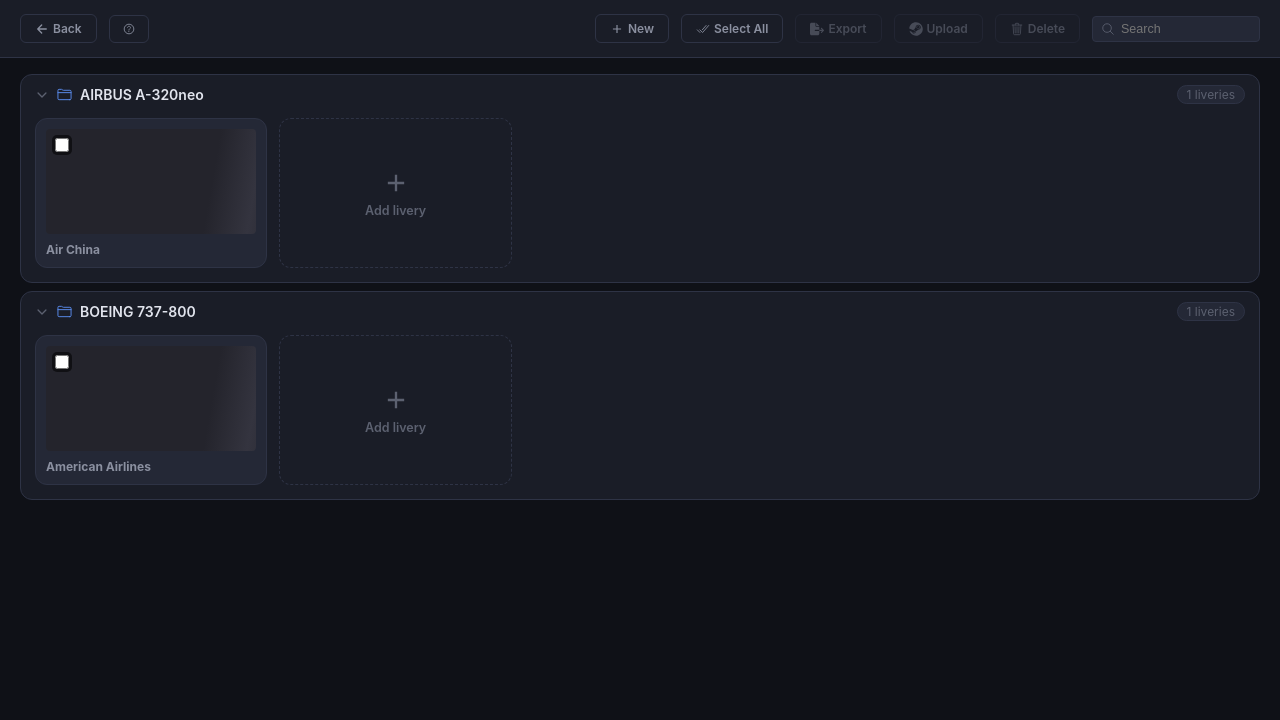
Test: LiveryScreen › header search filters the mine list
Expected: the text "Air China" is shown, 46,242 -> 100,257
Type "american" into the field with placeholder "Search".
click(1186, 28); type("american")  # box 1121,22 -> 1251,36
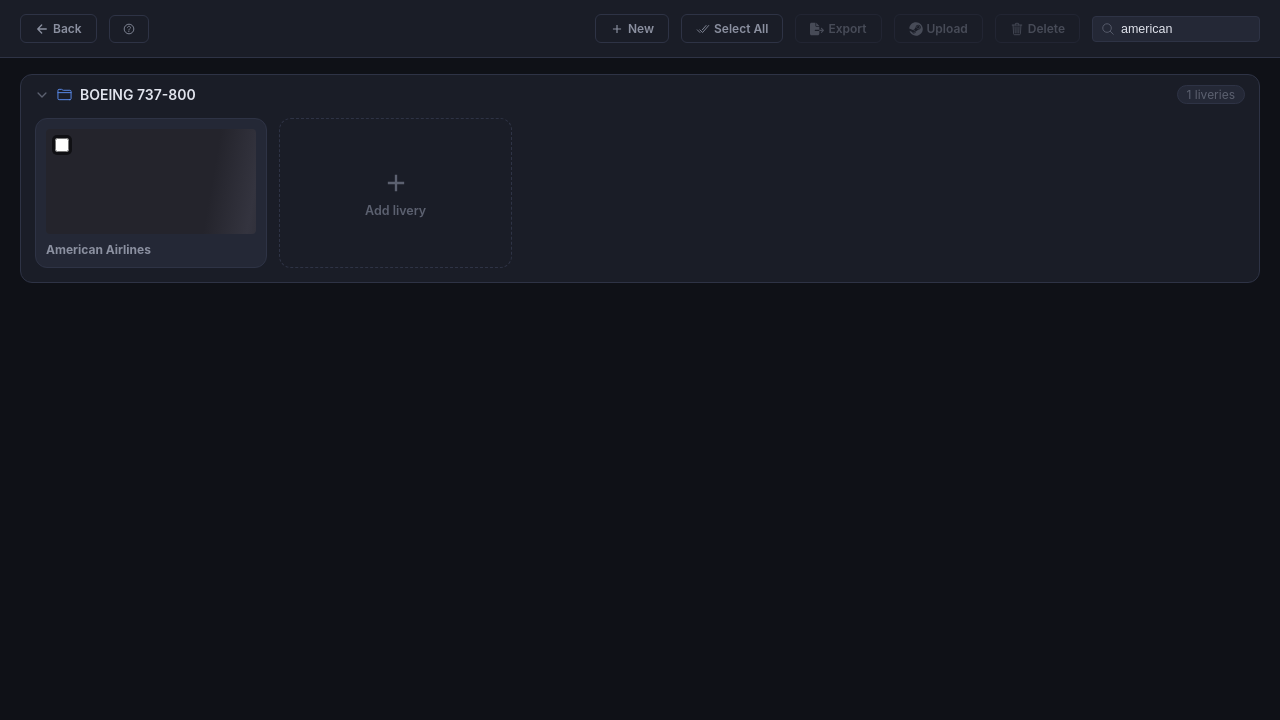
Expected: the text "American Airlines" is shown, 46,242 -> 151,257
Now the text "Air China" is gone
